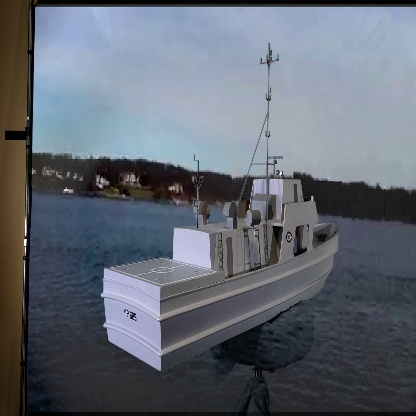YP689: (100, 41, 340, 371)
